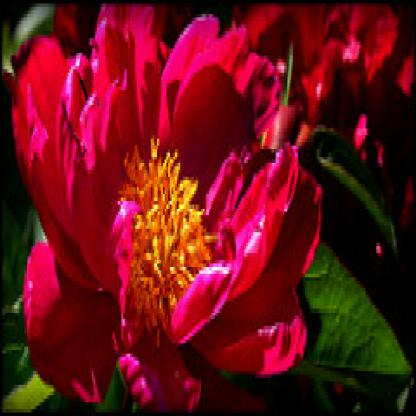Rose-Mawar: (6, 12, 322, 407)
